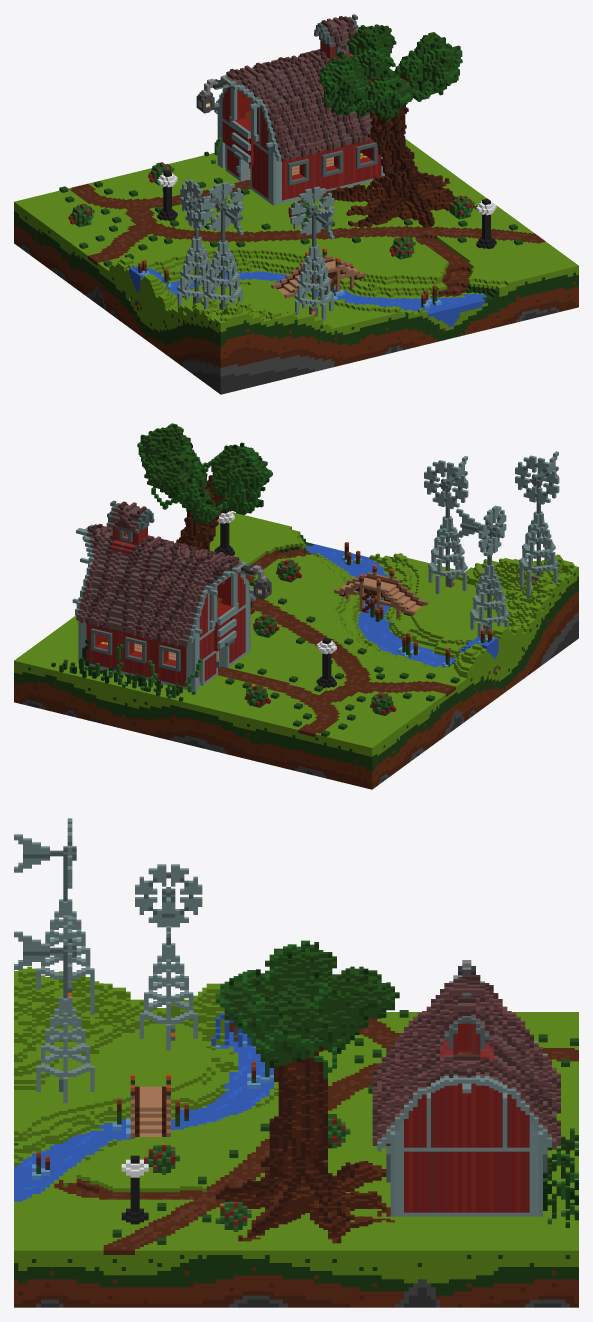
Rendered from small_farm.glb.
3 renders of one model, top to bottom at view 1: azimuth 30°, elevation 25°; view 2: azimuth 150°, elevation 25°; view 3: azimuth 270°, elevation 25°, orthographic. The views are drawn at different scales.
Visible parts, largest first — view 1: Object_3, Object_4; view 2: Object_3, Object_4; view 3: Object_3, Object_4.
Part boxes in pixels (x1,y1,x2,y2): Object_3: (14,14,578,394); Object_4: (62,16,578,394); Object_3: (14,423,578,789); Object_4: (137,424,572,677); Object_3: (14,818,578,1250); Object_4: (14,1008,578,1307).
Size of the model in its own units: 126 by 70 by 126.
1 material, 1 textured.
